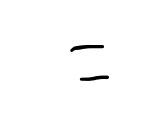eqv: (70, 45, 109, 81)
